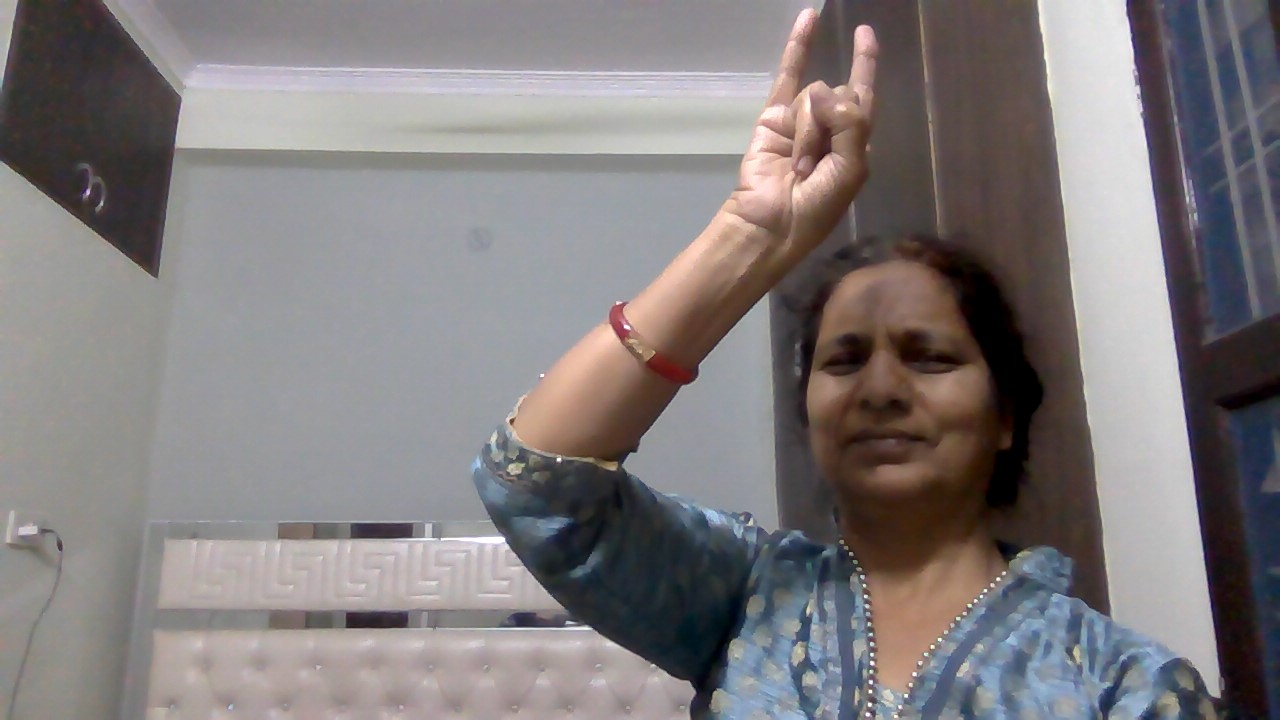Select All: (726, 5, 886, 257)
